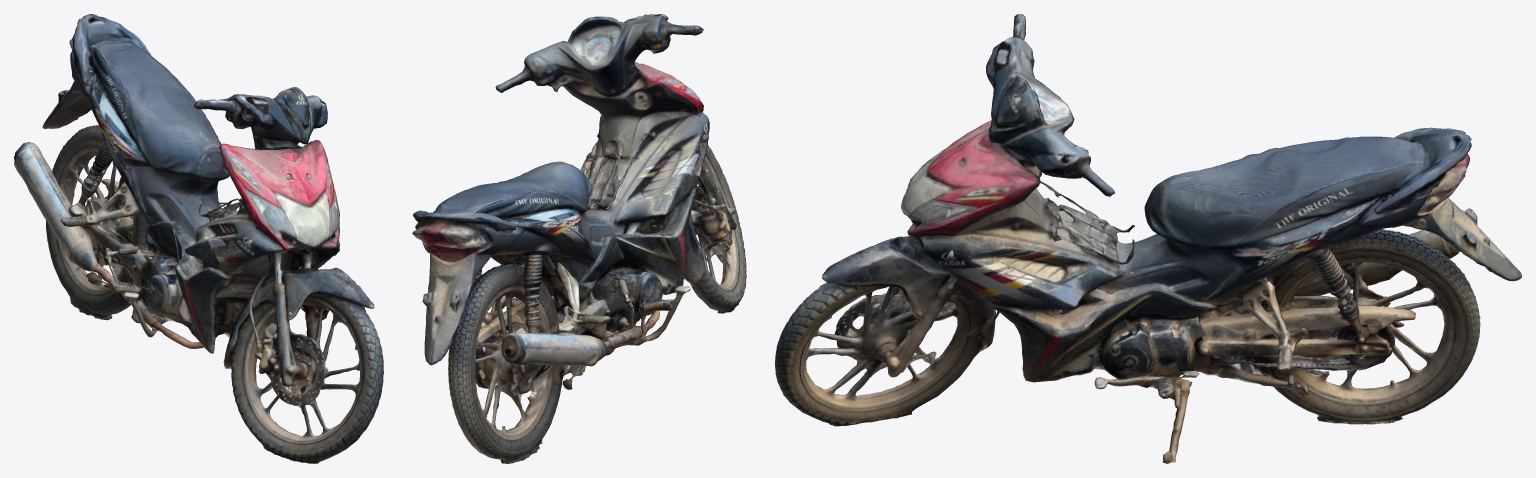
Rendered from free_scanned_asian_motorbike.glb.
3 views of the same model, side by side, from view 1: azimuth 30°, elevation 25°; view 2: azimuth 150°, elevation 25°; view 3: azimuth 270°, elevation 25° (orthographic). The views are drawn at different scales.
Visible parts, largest first — view 1: Motorbike1; view 2: Motorbike1; view 3: Motorbike1.
Boxes of the visible parts, x1,y1,x2,y2 form: Motorbike1: (14,14,383,463); Motorbike1: (412,14,746,463); Motorbike1: (775,14,1521,463).
Size of the model in its own units: 0.7185 by 1.14 by 1.99.
1 material, 1 textured.
